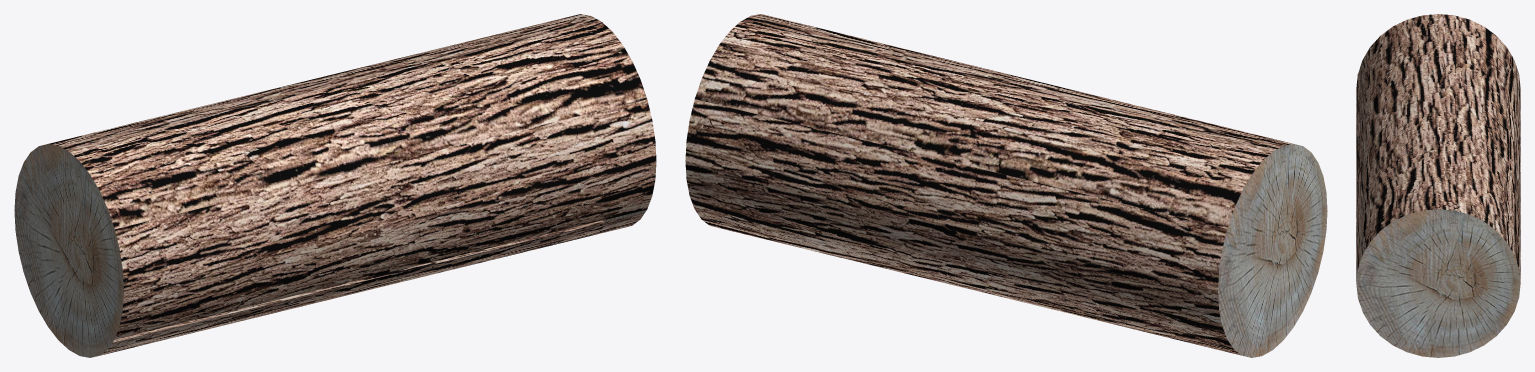
The model's file is leñaFBX.fbx.
The picture shows the model from 3 angles, left to right: view 1: azimuth 30°, elevation 25°; view 2: azimuth 150°, elevation 25°; view 3: azimuth 270°, elevation 25°; orthographic projection. The views are drawn at different scales.
Visible parts, largest first — view 1: pCylinder1; view 2: pCylinder1; view 3: pCylinder1.
Part boxes in pixels (x1,y1,x2,y2): pCylinder1: (14, 14, 656, 357); pCylinder1: (685, 14, 1327, 357); pCylinder1: (1356, 14, 1520, 357).
Bounding box in the file's own units: 5.35 × 1.91 × 1.91.
Materials: 1 (1 with a texture image).
